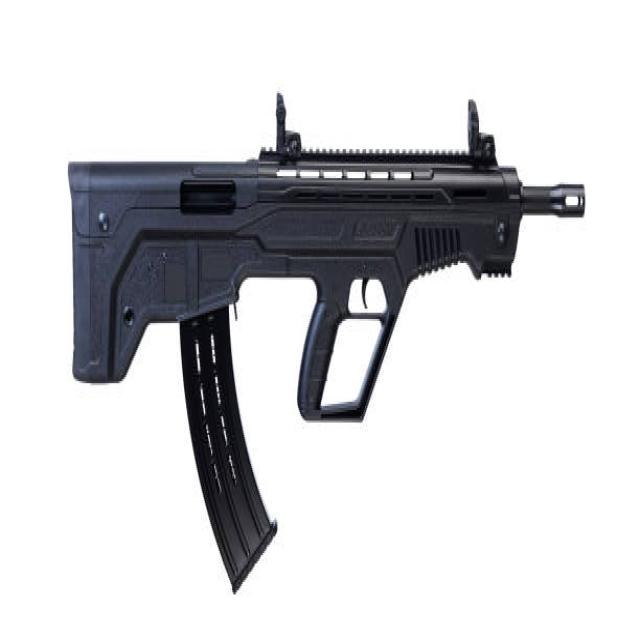rifle: (59, 87, 592, 614)
